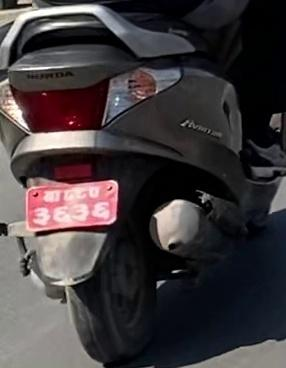license-plate: (24, 183, 121, 229)
